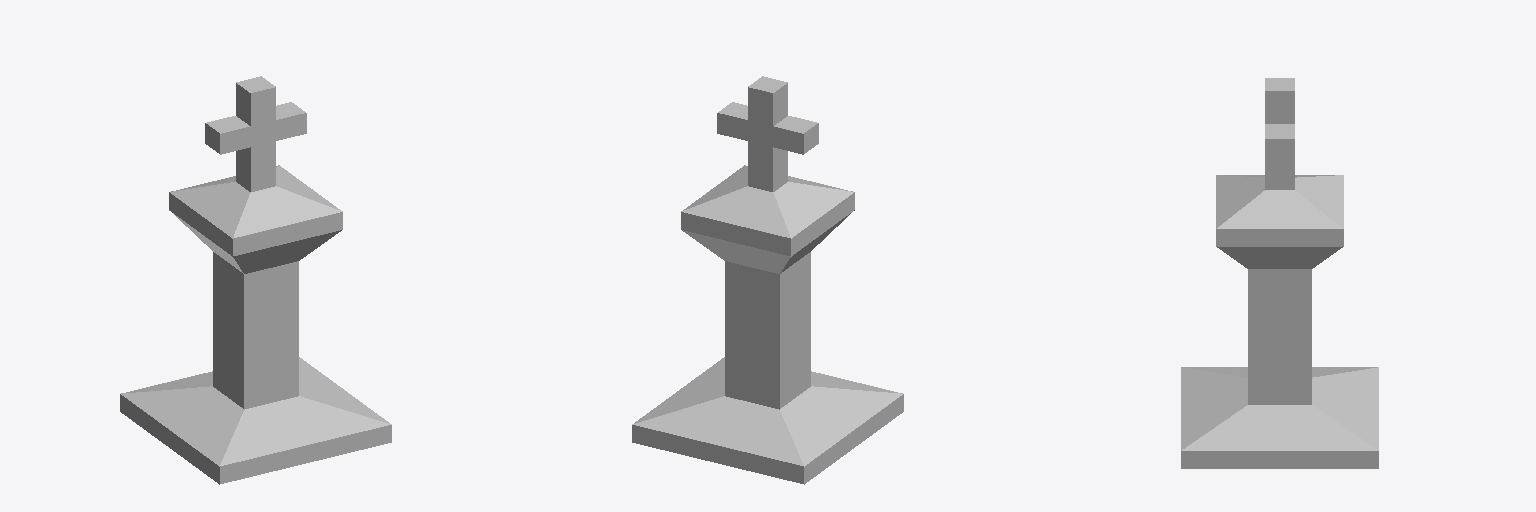
File: Piece_King.obj
3 renders of one model, left to right at view 1: azimuth 30°, elevation 25°; view 2: azimuth 150°, elevation 25°; view 3: azimuth 270°, elevation 25°, orthographic.
Parts seen in each view (by area): view 1: Piece_king_Cube; view 2: Piece_king_Cube; view 3: Piece_king_Cube.
Boxes of the visible parts, x1,y1,x2,y2 form: Piece_king_Cube: [120, 76, 391, 484]; Piece_king_Cube: [632, 76, 903, 484]; Piece_king_Cube: [1181, 78, 1378, 468].
Size of the model in its own units: 1 by 1.9 by 1.